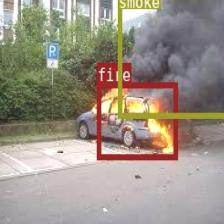fire: (96, 81, 176, 158)
smoke: (116, 0, 224, 116)
